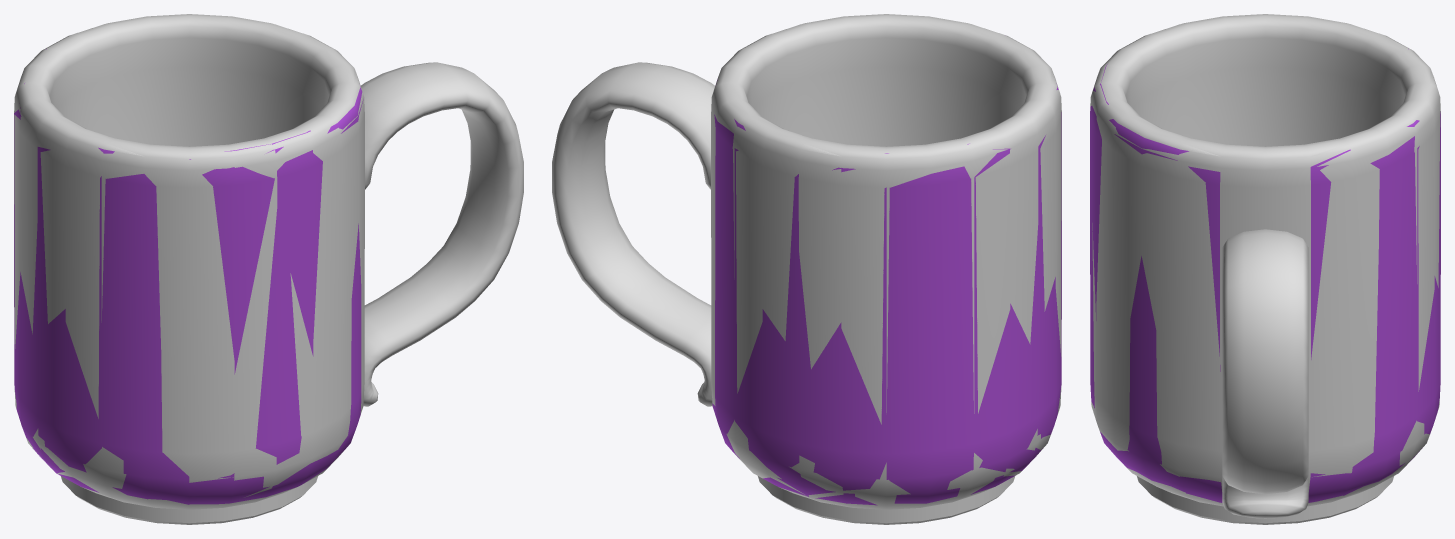
File: mug-c1.glb
3 renders of one model, left to right at view 1: azimuth 30°, elevation 25°; view 2: azimuth 150°, elevation 25°; view 3: azimuth 270°, elevation 25°, orthographic.
Visible parts, largest first — view 1: coffeeMug.001; view 2: coffeeMug.001; view 3: coffeeMug.001.
Part boxes in pixels (box(x1,y1,x2,y2)): coffeeMug.001: box(14, 14, 523, 524); coffeeMug.001: box(552, 14, 1061, 524); coffeeMug.001: box(1090, 14, 1440, 524).
Size of the model in its own units: 22.81 by 17.8 by 14.57.
